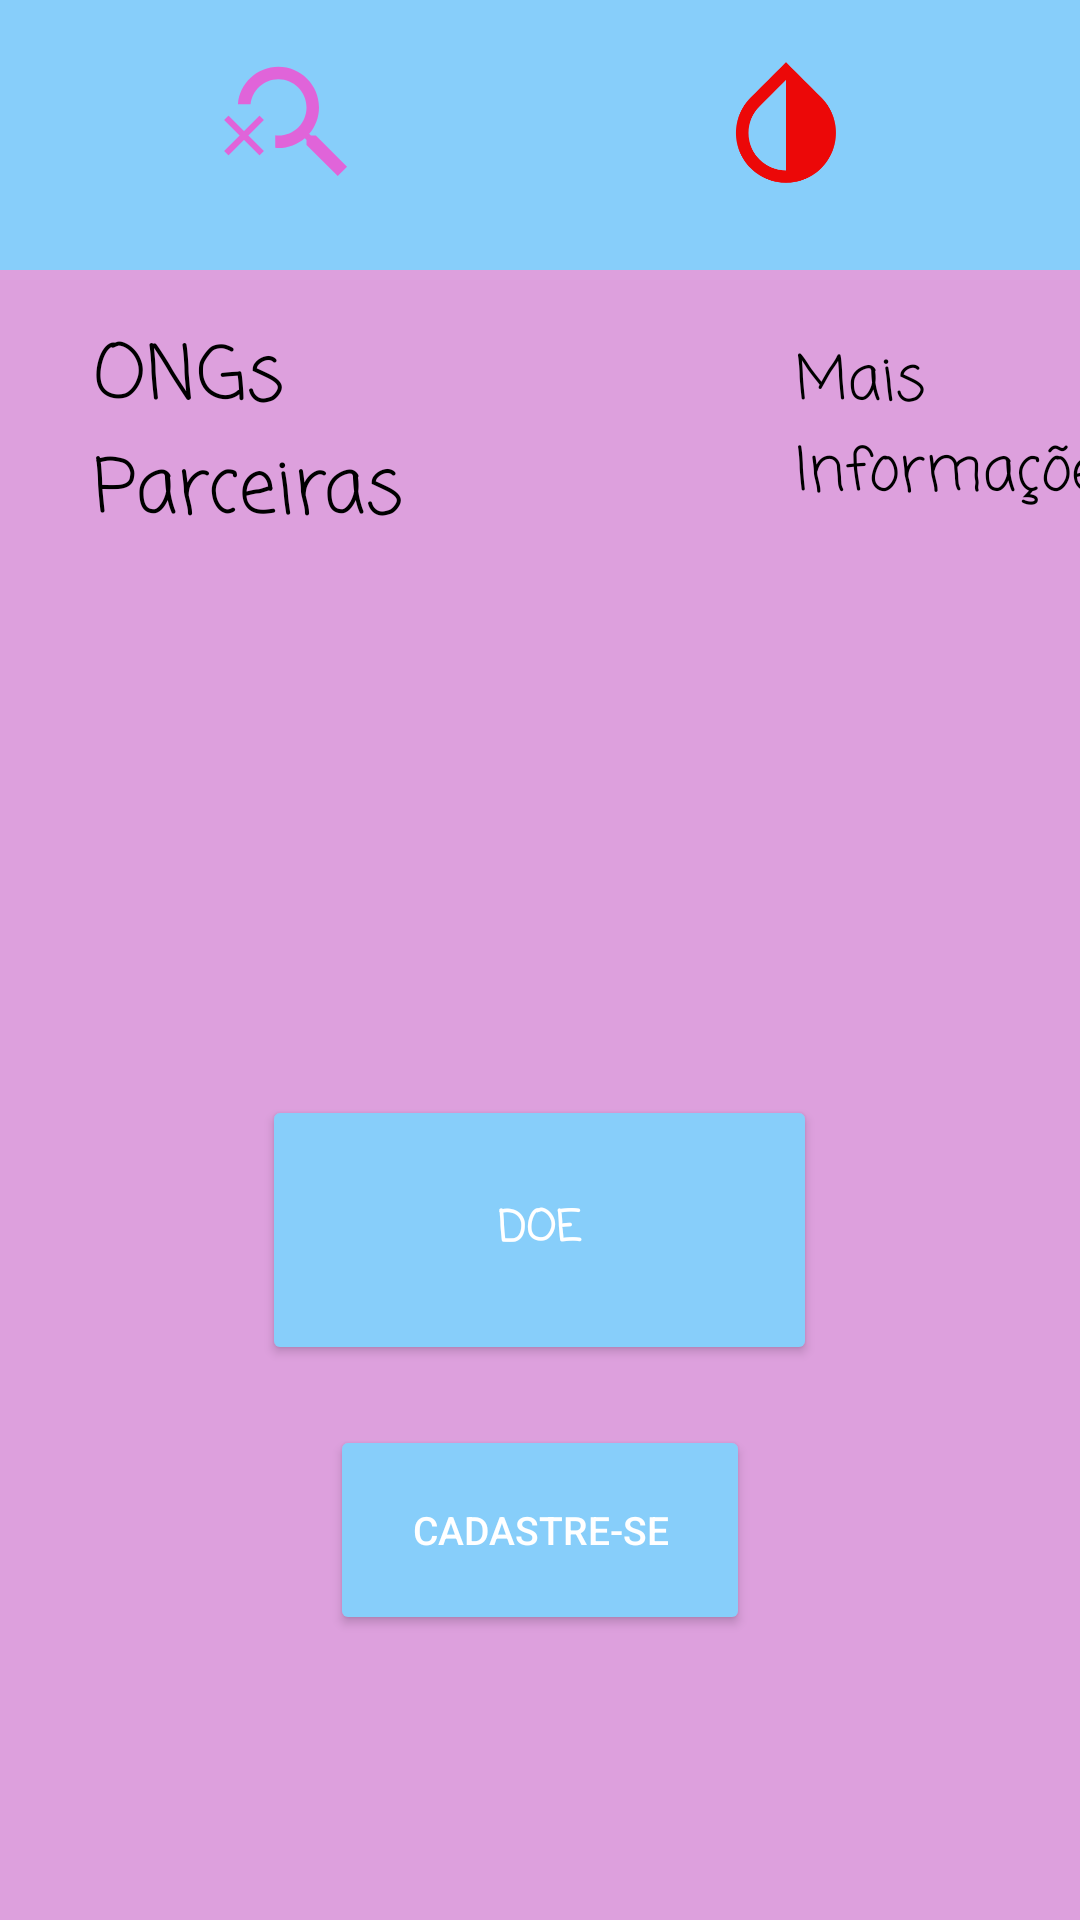

Icon click points for this 1080px×1920px phone screenshot, format (x,y):
invert colors: (786,122)
search off: (285,121)
